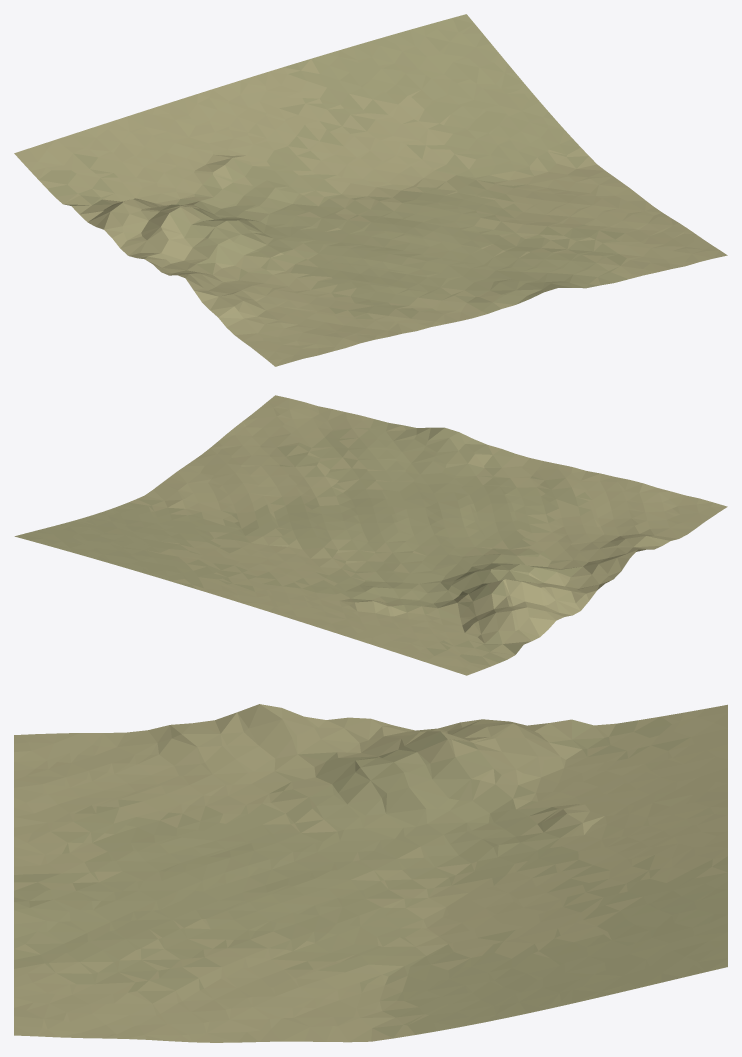
Rendered from Ground_-3_-9.glb.
The picture shows the model from 3 angles, top to bottom: view 1: azimuth 30°, elevation 25°; view 2: azimuth 150°, elevation 25°; view 3: azimuth 270°, elevation 25°; orthographic projection. The views are drawn at different scales.
Visible parts, largest first — view 1: Ground_-3_-9; view 2: Ground_-3_-9; view 3: Ground_-3_-9.
Part boxes in pixels (left/top/right/bottom): Ground_-3_-9: left=14, top=14, right=727, bottom=366; Ground_-3_-9: left=14, top=395, right=727, bottom=675; Ground_-3_-9: left=14, top=704, right=727, bottom=1042.
Bounding box in the file's own units: 768 × 90.09 × 768.
